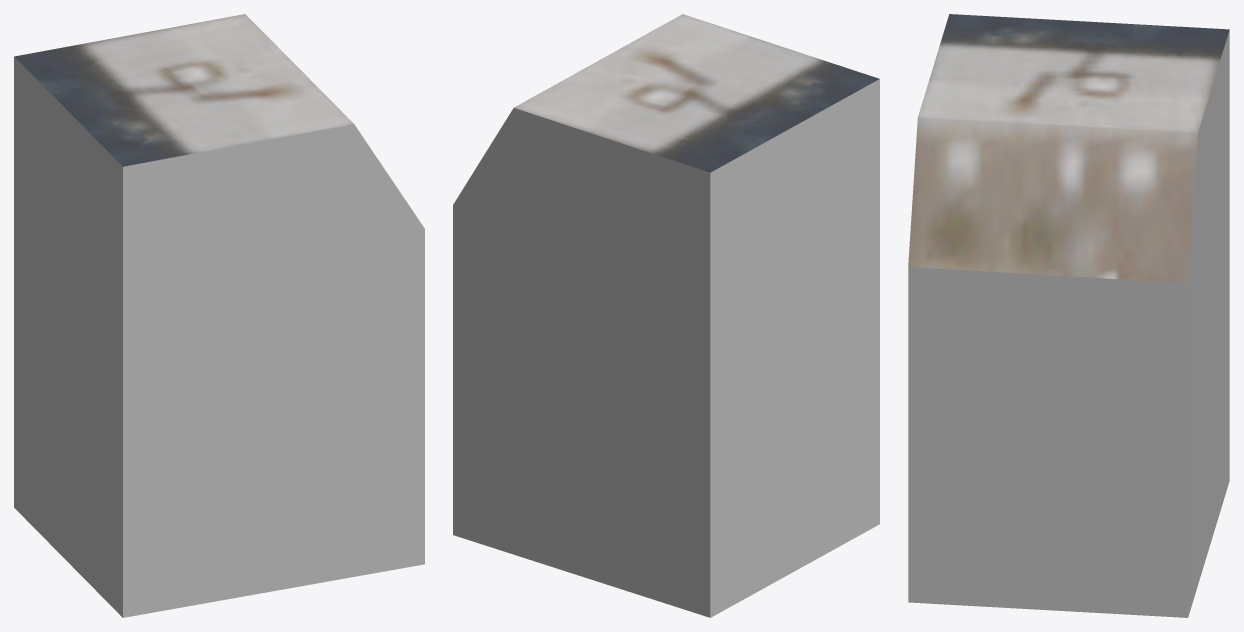
Rendered from DEBW_0010007Tx5t.gltf.
The picture shows the model from 3 angles, left to right: view 1: azimuth 30°, elevation 25°; view 2: azimuth 150°, elevation 25°; view 3: azimuth 270°, elevation 25°; orthographic projection.
Parts seen in each view (by area): view 1: Z_UP; view 2: Z_UP; view 3: Z_UP.
Part boxes in pixels (x1=…): Z_UP: x1=14, y1=14, x2=424, y2=617; Z_UP: x1=453, y1=14, x2=879, y2=617; Z_UP: x1=908, y1=14, x2=1229, y2=617.
Bounding box in the file's own units: 12.14 × 16.78 × 10.8.
2 materials, 1 textured.
